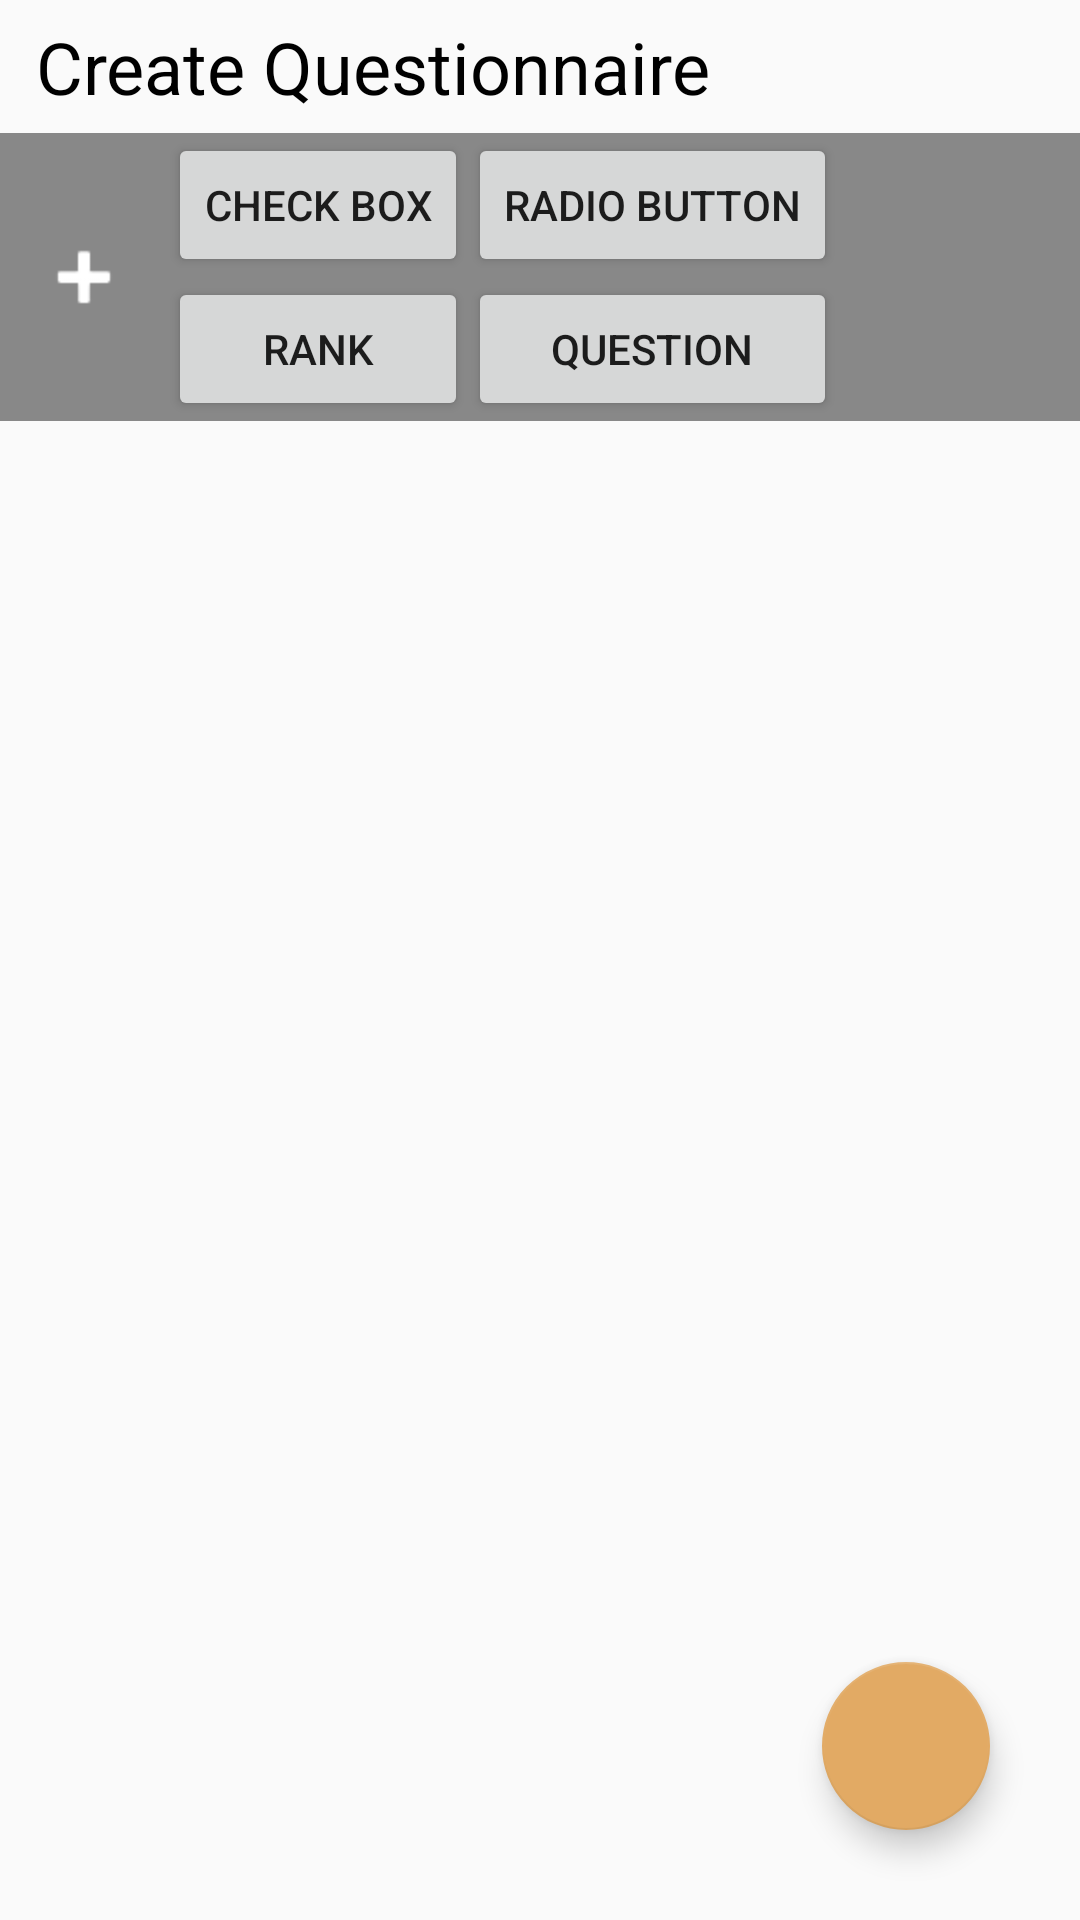

Icons on this 1080 × 1920 Android screen, each with its box as [left=x1, top=y1, right=x2, bottom=y2]:
add a new question: [left=57, top=251, right=111, bottom=304]
